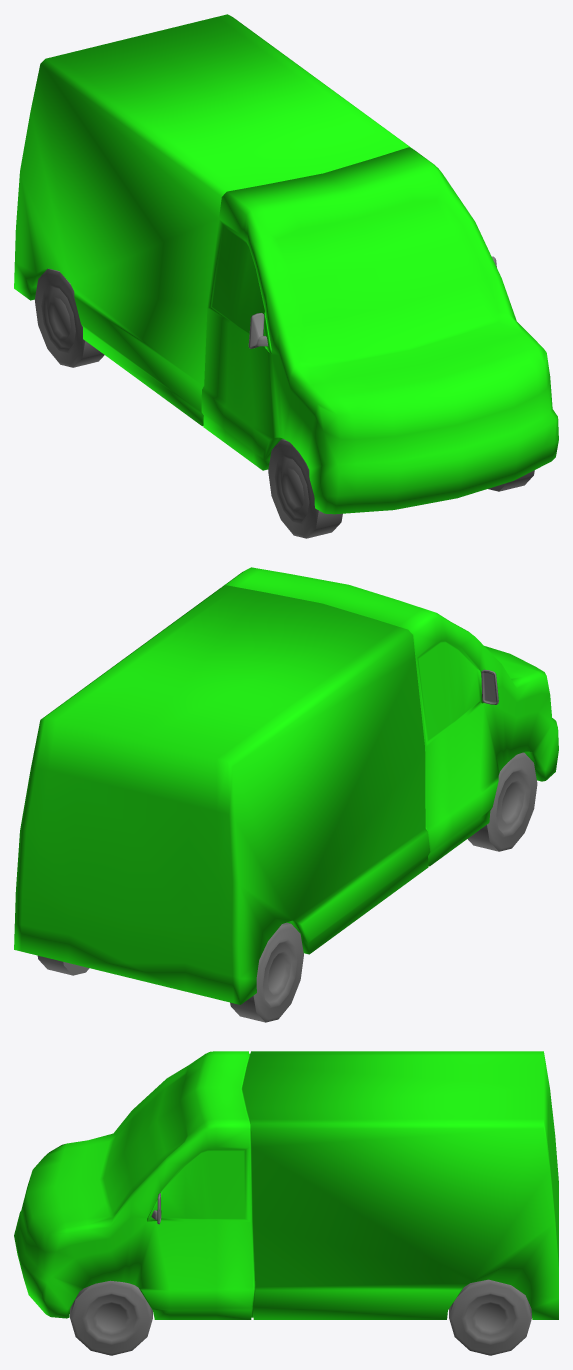
Rendered from van.fbx.
3 views of the same model, one above another, from view 1: azimuth 30°, elevation 25°; view 2: azimuth 150°, elevation 25°; view 3: azimuth 270°, elevation 25° (orthographic). The views are drawn at different scales.
Visible parts, largest first — view 1: Van_low; view 2: Van_low; view 3: Van_low.
Part boxes in pixels (left/top/right/bottom): Van_low: left=14, top=14, right=558, bottom=538; Van_low: left=14, top=567, right=558, bottom=1022; Van_low: left=14, top=1051, right=558, bottom=1355.
Size of the model in its own units: 88.87 by 94.51 by 207.
